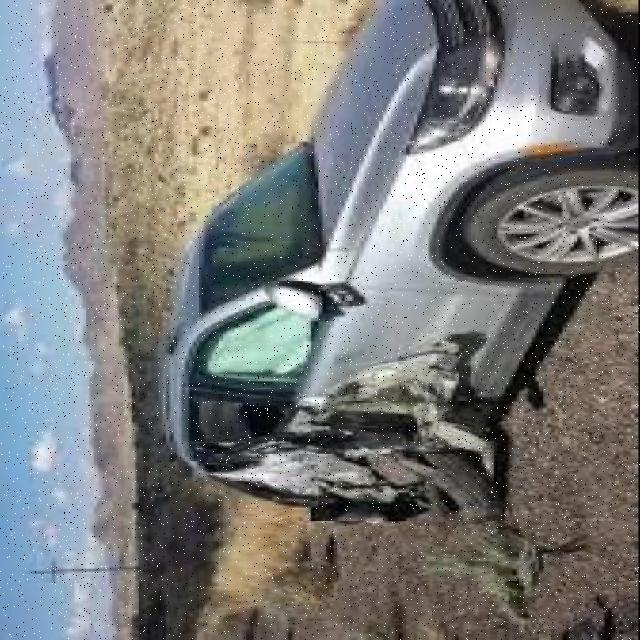damage: (186, 327, 532, 525)
